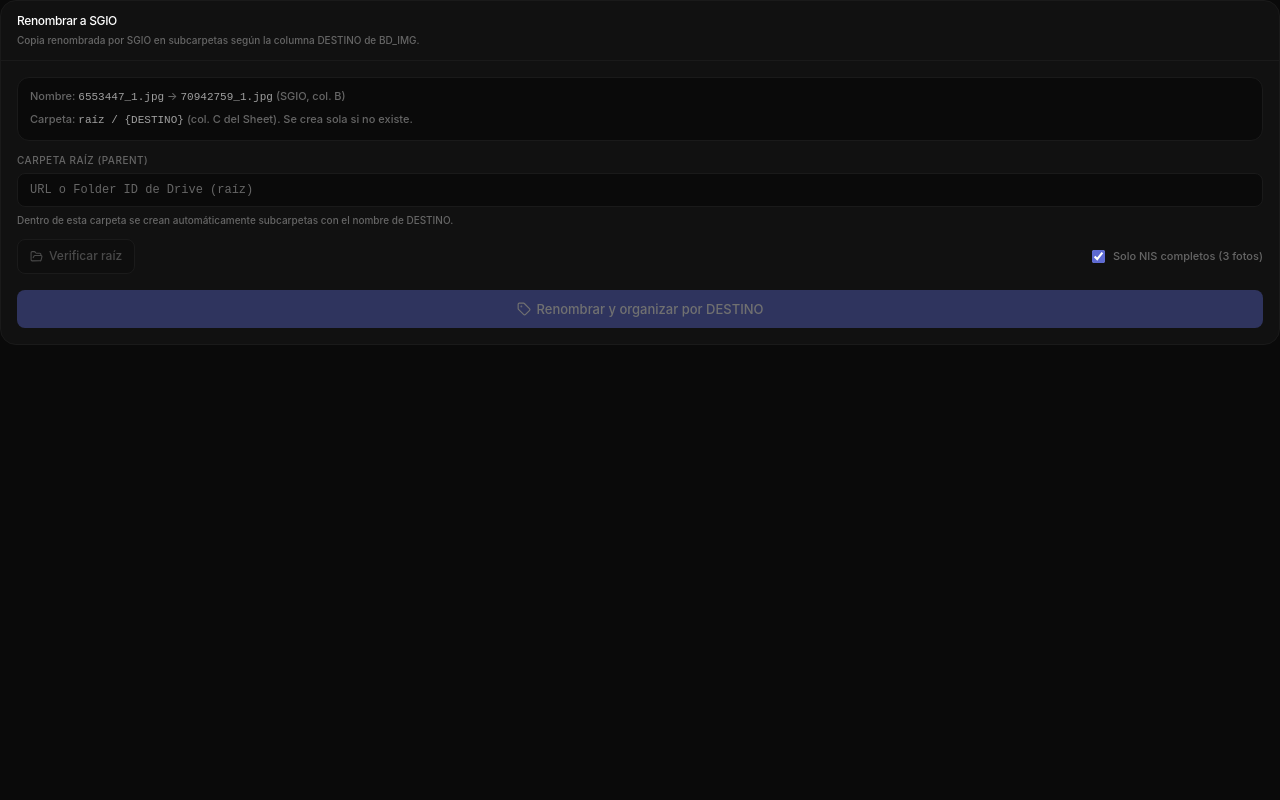
Test case: RenameExportPanel partial outcomes › keeps the completed copy result and surfaces the metadata persistence warning
In the field with placeholder "URL o Folder ID de Drive (raíz)": {"x": 640, "y": 190} [17,173,1263,207], type "folder-1"
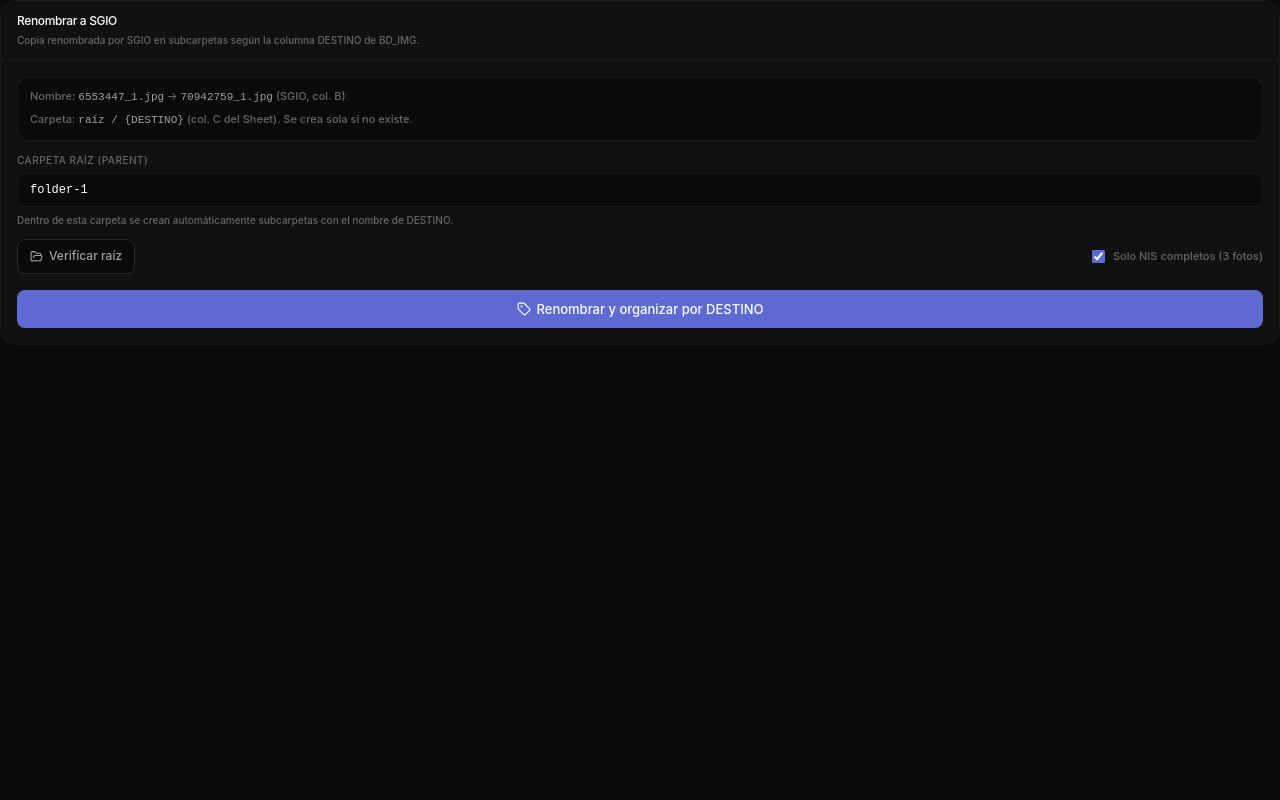
Click the button "Renombrar y organizar por DESTINO": {"x": 640, "y": 309} [17,290,1263,328]
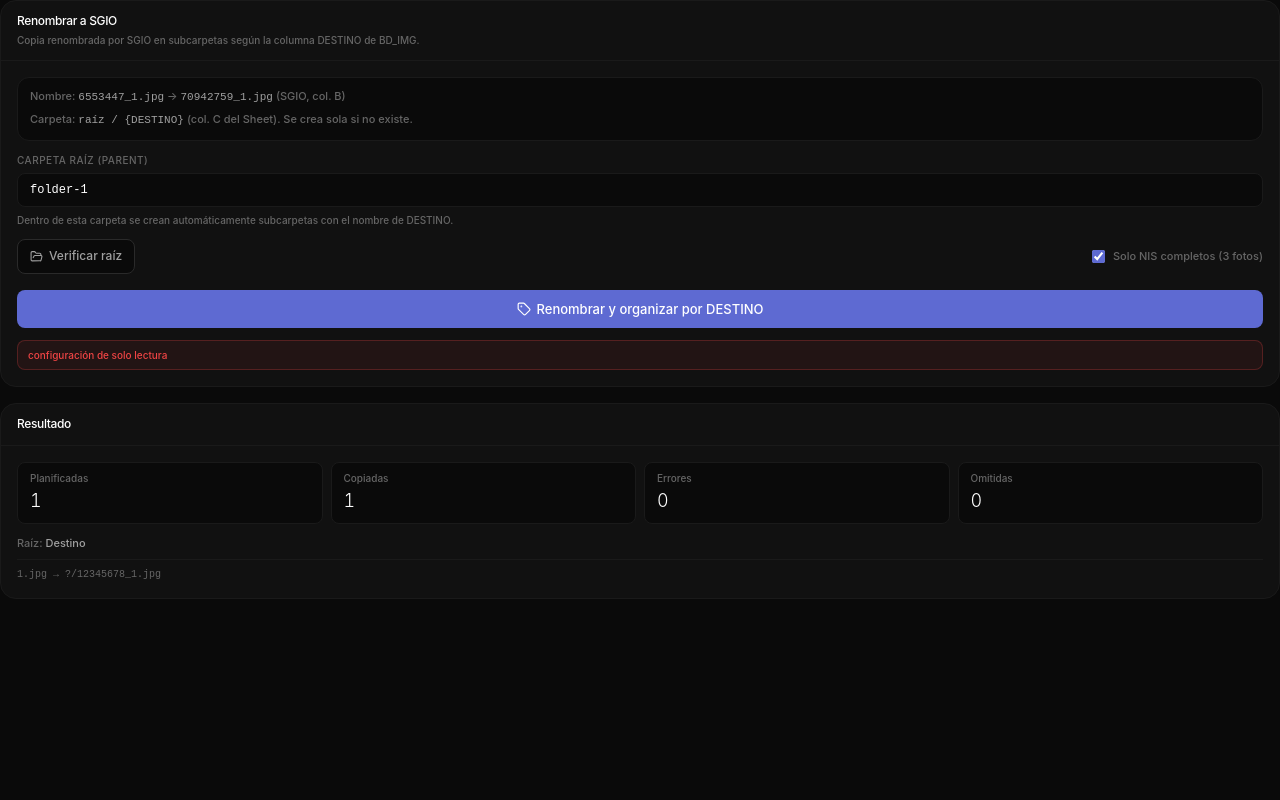
Result: the text "configuración de solo lectura" is shown at [17,340,1263,370]
Result: the text "Destino" is shown at [46,536,86,550]
